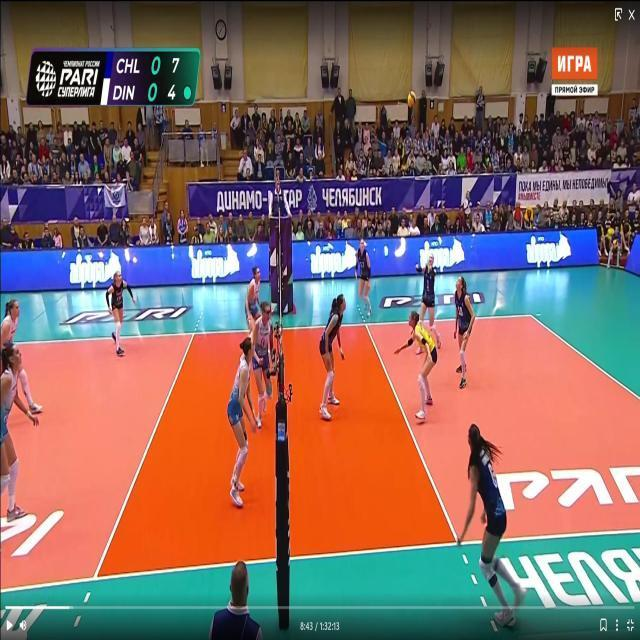volleyball: (408, 90, 417, 106)
